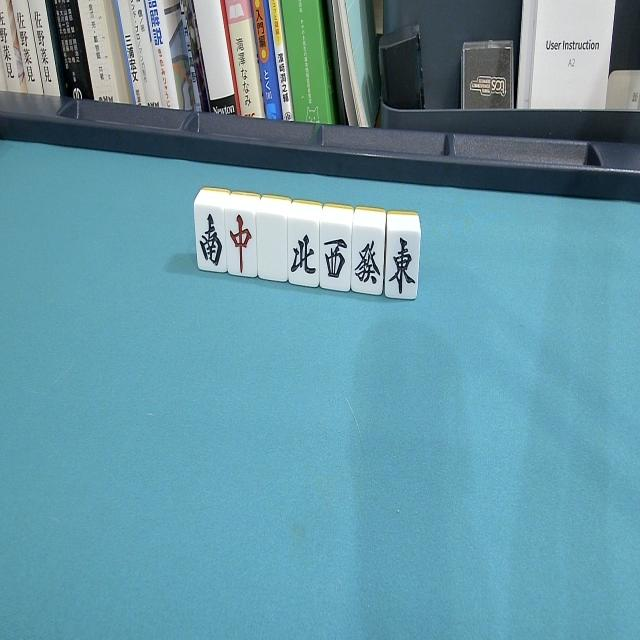chun: (222, 188, 263, 290)
haku: (253, 194, 295, 294)
hatsu: (347, 207, 391, 307)
nan: (192, 186, 232, 284)
pe-: (284, 196, 325, 294)
sya-: (316, 201, 356, 303)
ton: (380, 207, 424, 309)
